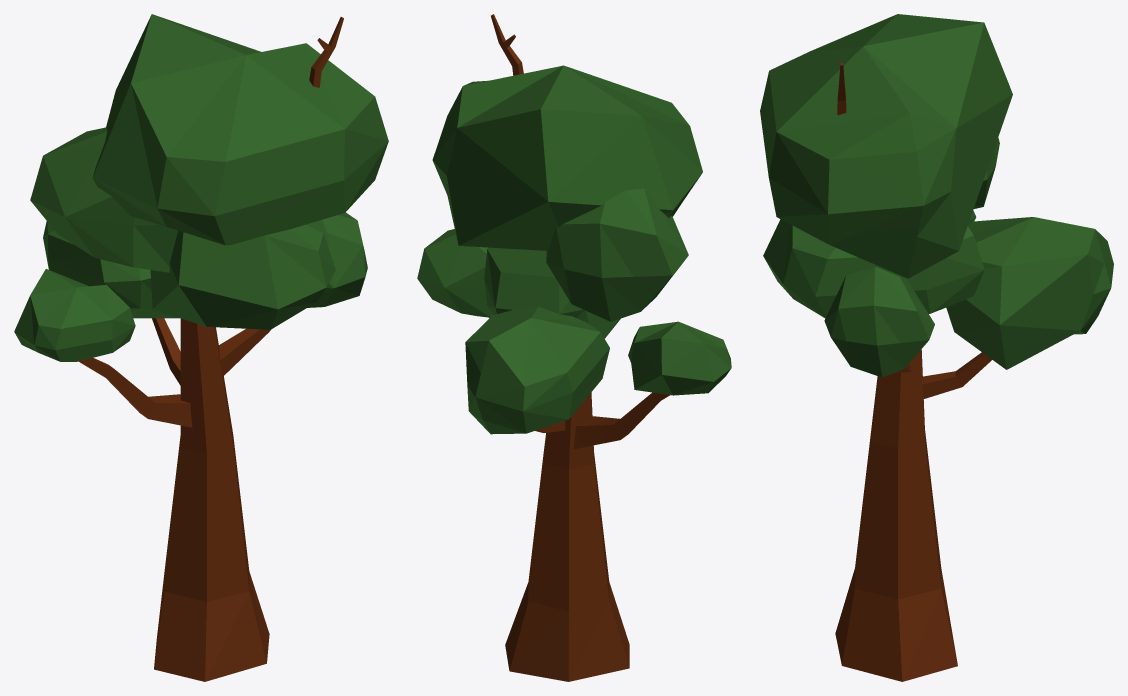
File: tree_03.glb
The picture shows the model from 3 angles, left to right: view 1: azimuth 30°, elevation 25°; view 2: azimuth 150°, elevation 25°; view 3: azimuth 270°, elevation 25°; orthographic projection. The views are drawn at different scales.
Visible parts, largest first — view 1: Tree_temp_climate_003; view 2: Tree_temp_climate_003; view 3: Tree_temp_climate_003.
Part boxes in pixels (box(x1,y1,x2,y2)): Tree_temp_climate_003: box(14, 14, 388, 681); Tree_temp_climate_003: box(417, 14, 731, 681); Tree_temp_climate_003: box(760, 14, 1113, 681).
Bounding box in the file's own units: 0.0638 × 0.1197 × 0.06.
1 material, 1 textured.
